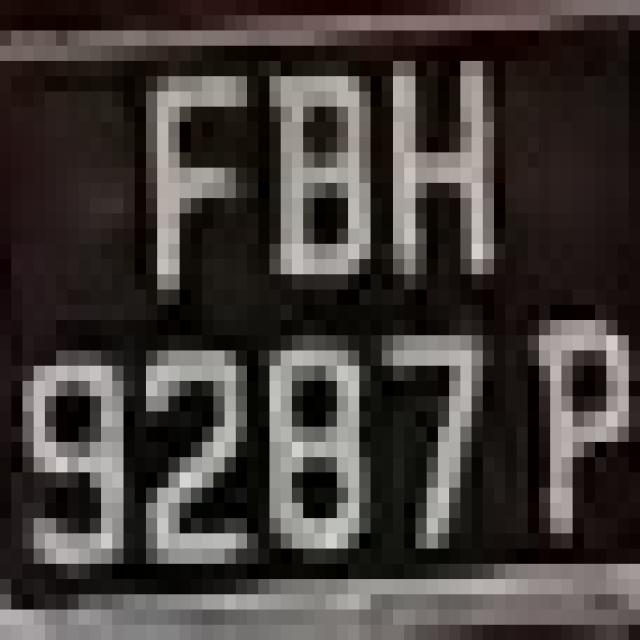2: (101, 320, 258, 579)
7: (337, 274, 494, 594)
8: (224, 320, 370, 579)
9: (0, 320, 146, 610)
B: (236, 31, 370, 336)
F: (123, 15, 236, 305)
H: (348, 46, 517, 290)
P: (505, 244, 640, 548)
